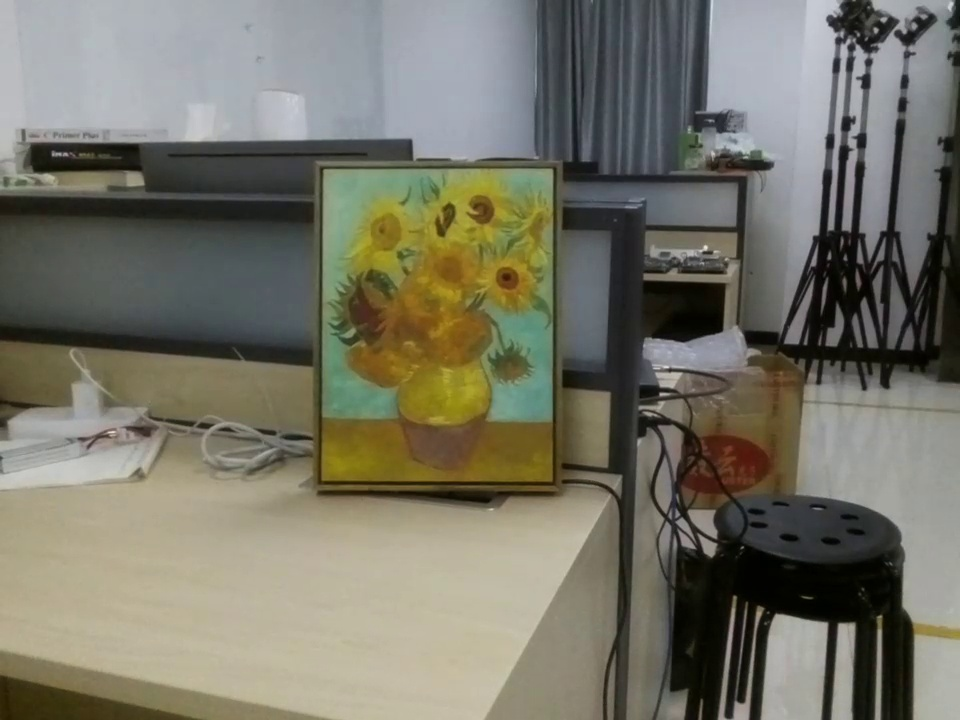painting: (312, 158, 574, 496)
